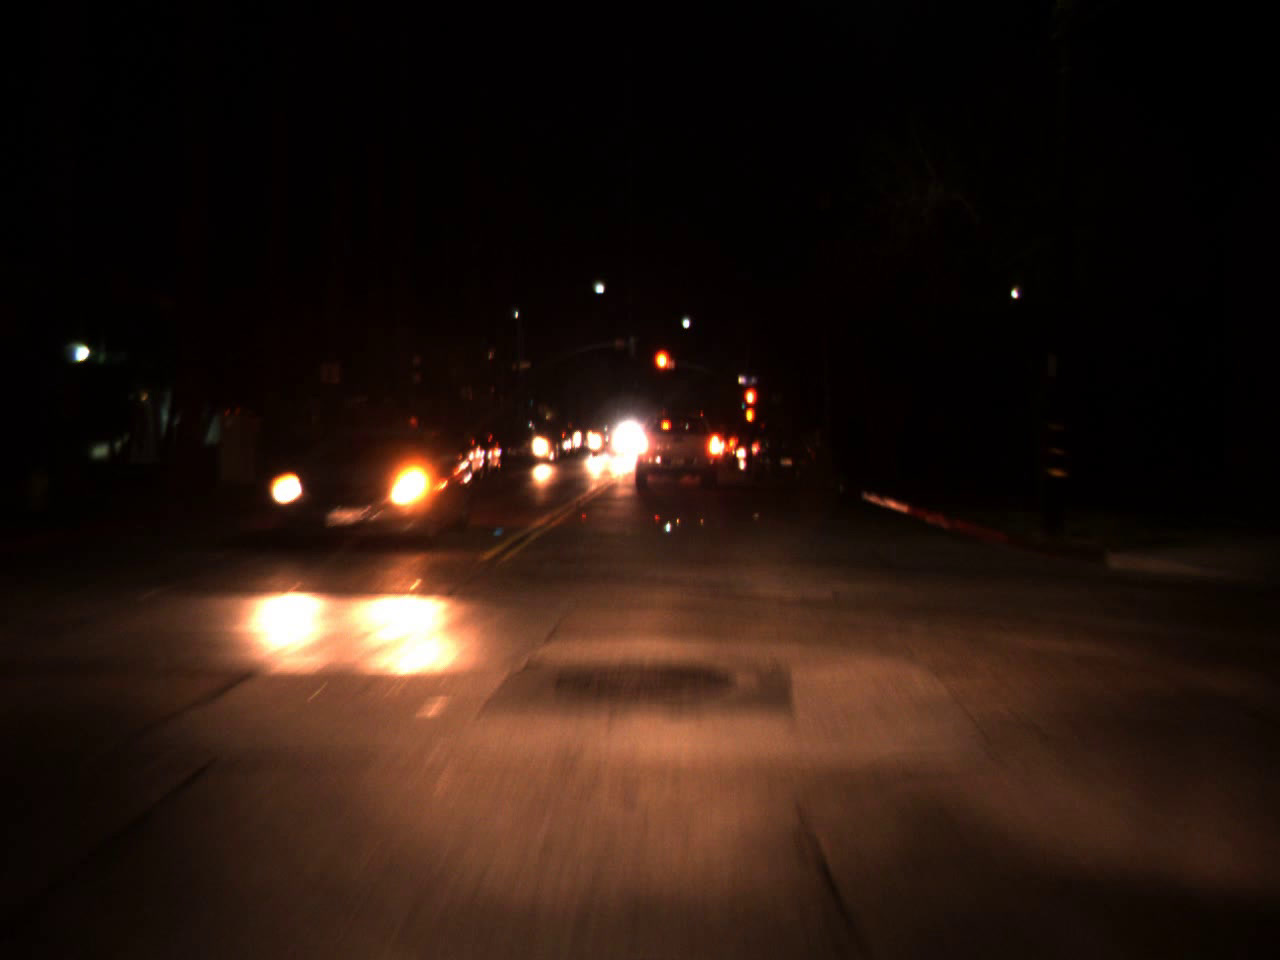stop: (651, 346, 673, 391), (742, 385, 758, 425)
